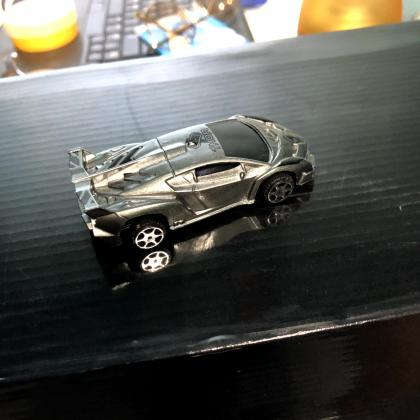Car: (68, 115, 315, 249)
